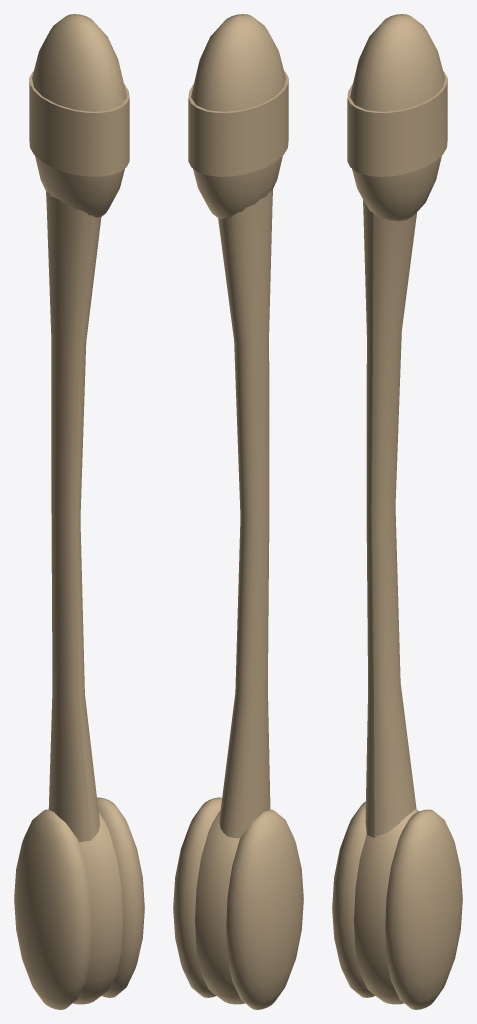
Rendered from right_radius.glb.
3 renders of one model, left to right at view 1: azimuth 30°, elevation 25°; view 2: azimuth 150°, elevation 25°; view 3: azimuth 330°, elevation 25°, orthographic.
Visible parts, largest first — view 1: right_radius:diaphysis, right_radius:condyle--1, right_radius:proximal-envelope, right_radius:radial-head, right_radius:distal-envelope, right_radius:condyle-1; view 2: right_radius:diaphysis, right_radius:condyle--1, right_radius:proximal-envelope, right_radius:radial-head, right_radius:distal-envelope, right_radius:condyle-1; view 3: right_radius:diaphysis, right_radius:condyle-1, right_radius:proximal-envelope, right_radius:radial-head, right_radius:distal-envelope, right_radius:condyle--1.
Boxes of the visible parts, bbox=[...] form: right_radius:diaphysis: bbox=[46, 192, 101, 842]; right_radius:condyle--1: bbox=[14, 809, 91, 1009]; right_radius:proximal-envelope: bbox=[31, 14, 126, 217]; right_radius:radial-head: bbox=[29, 71, 129, 176]; right_radius:distal-envelope: bbox=[73, 812, 122, 1004]; right_radius:condyle-1: bbox=[97, 797, 144, 997]; right_radius:diaphysis: bbox=[218, 189, 272, 838]; right_radius:condyle--1: bbox=[226, 809, 303, 1009]; right_radius:proximal-envelope: bbox=[191, 14, 286, 218]; right_radius:radial-head: bbox=[188, 71, 288, 176]; right_radius:distal-envelope: bbox=[195, 810, 244, 1004]; right_radius:condyle-1: bbox=[173, 797, 221, 997]; right_radius:diaphysis: bbox=[363, 200, 416, 837]; right_radius:condyle-1: bbox=[385, 809, 462, 1009]; right_radius:proximal-envelope: bbox=[350, 14, 445, 221]; right_radius:radial-head: bbox=[347, 71, 447, 176]; right_radius:distal-envelope: bbox=[354, 809, 418, 1004]; right_radius:condyle--1: bbox=[332, 801, 374, 997].
Size of the model in its own units: 0.141 by 1.27 by 0.1504.
